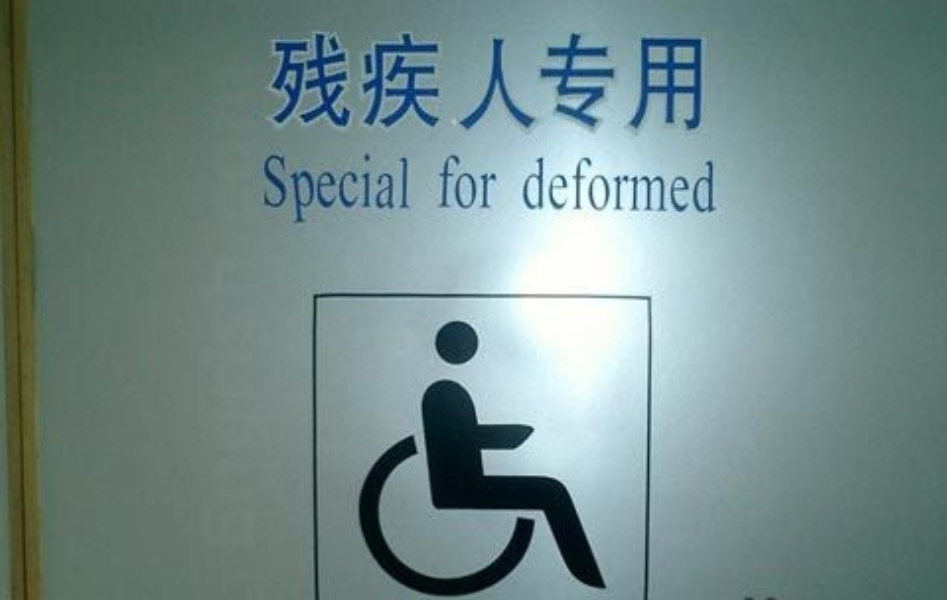text: (273, 30, 288, 137), (289, 30, 304, 137), (305, 30, 320, 137), (321, 30, 336, 137), (337, 30, 352, 137), (353, 30, 368, 137), (369, 30, 384, 137), (385, 30, 400, 137), (401, 30, 416, 137), (417, 30, 432, 137), (433, 30, 448, 137), (449, 30, 464, 137), (465, 30, 480, 137), (481, 30, 496, 137), (497, 30, 512, 137), (513, 30, 528, 137), (529, 30, 544, 137), (545, 30, 560, 137), (561, 30, 576, 137), (577, 30, 592, 137), (593, 30, 608, 137), (609, 30, 624, 137), (625, 30, 640, 137), (641, 30, 656, 137), (657, 30, 672, 137), (673, 30, 688, 137), (689, 30, 704, 137), (261, 30, 272, 137), (273, 154, 288, 227), (289, 154, 304, 227), (305, 154, 320, 227), (321, 154, 336, 227), (337, 154, 352, 227), (353, 154, 368, 227), (369, 154, 384, 227), (385, 154, 400, 227), (259, 154, 272, 227), (529, 154, 544, 216), (545, 154, 560, 216), (561, 154, 576, 216), (577, 154, 592, 216), (593, 154, 608, 216), (609, 154, 624, 216), (625, 154, 640, 216), (641, 154, 656, 216), (657, 154, 672, 216), (673, 154, 688, 216), (689, 154, 704, 216), (449, 152, 464, 212), (465, 152, 480, 212), (481, 152, 496, 212), (705, 154, 719, 216), (435, 152, 448, 212), (401, 154, 411, 227), (517, 154, 528, 216), (705, 30, 707, 137), (497, 152, 500, 212)
